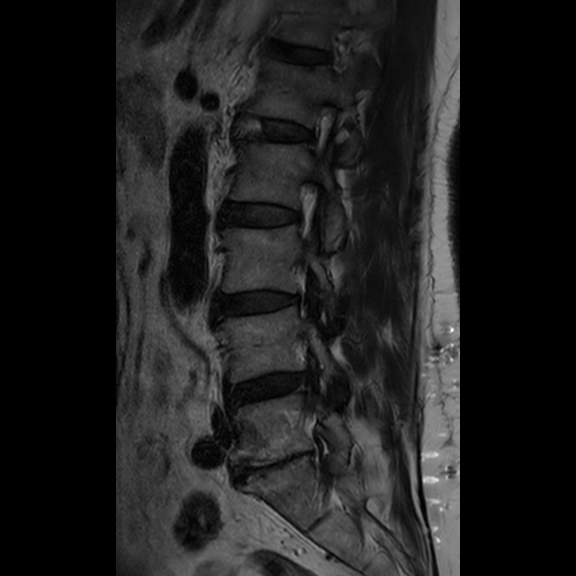LFS0: (295, 96, 341, 161), (284, 172, 323, 246)
